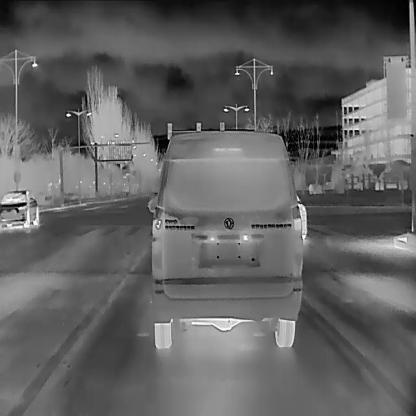car: (146, 128, 302, 348), (0, 190, 39, 229)
